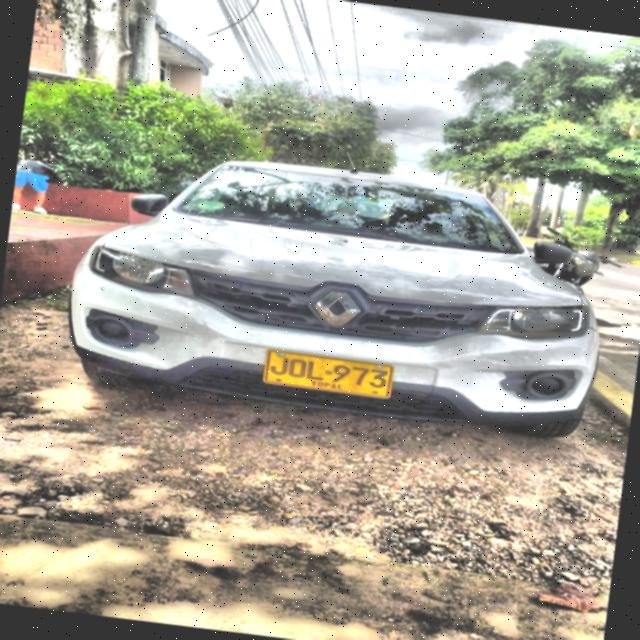plate: (264, 350, 392, 397)
